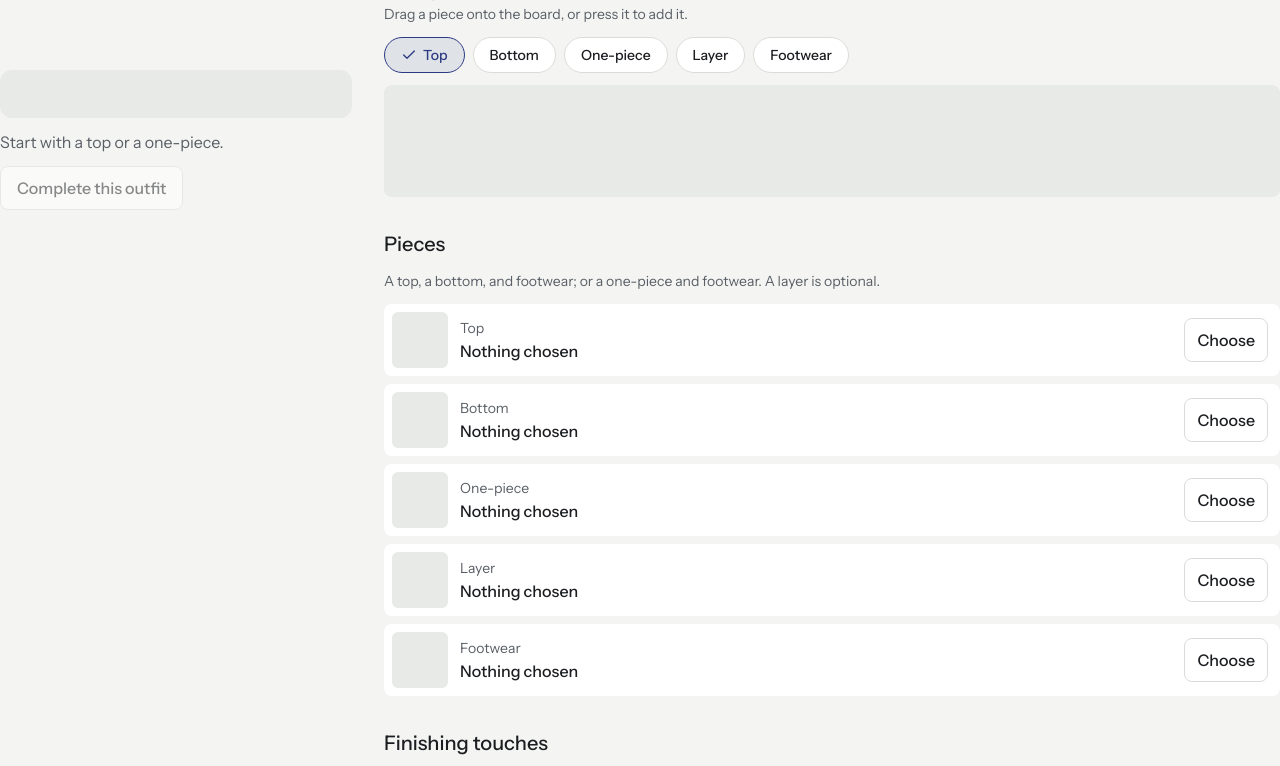
offers finishing touches the outfit can take
Click the 1st button "Choose".
click(1226, 340)  # box [1184, 318, 1268, 362]
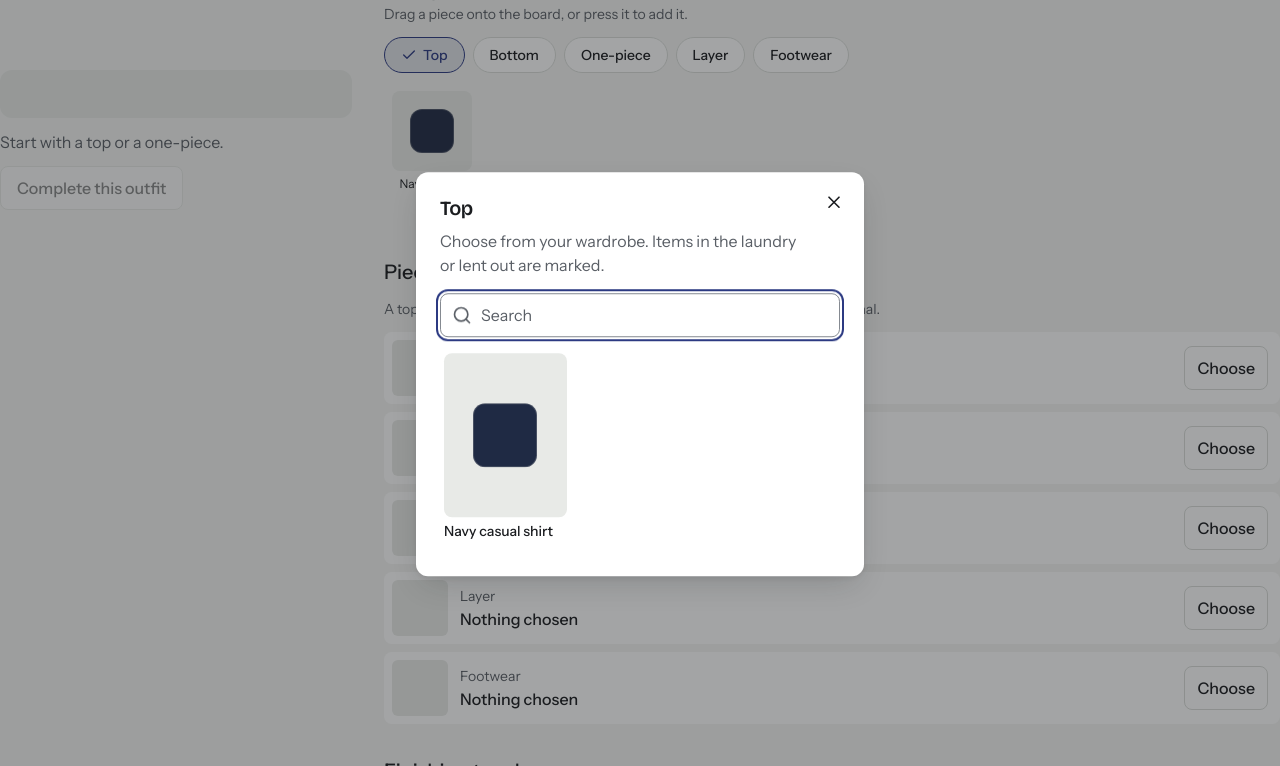
Click the button "Navy casual shirt".
click(505, 447)  # box [444, 353, 567, 542]
(page scrolled)
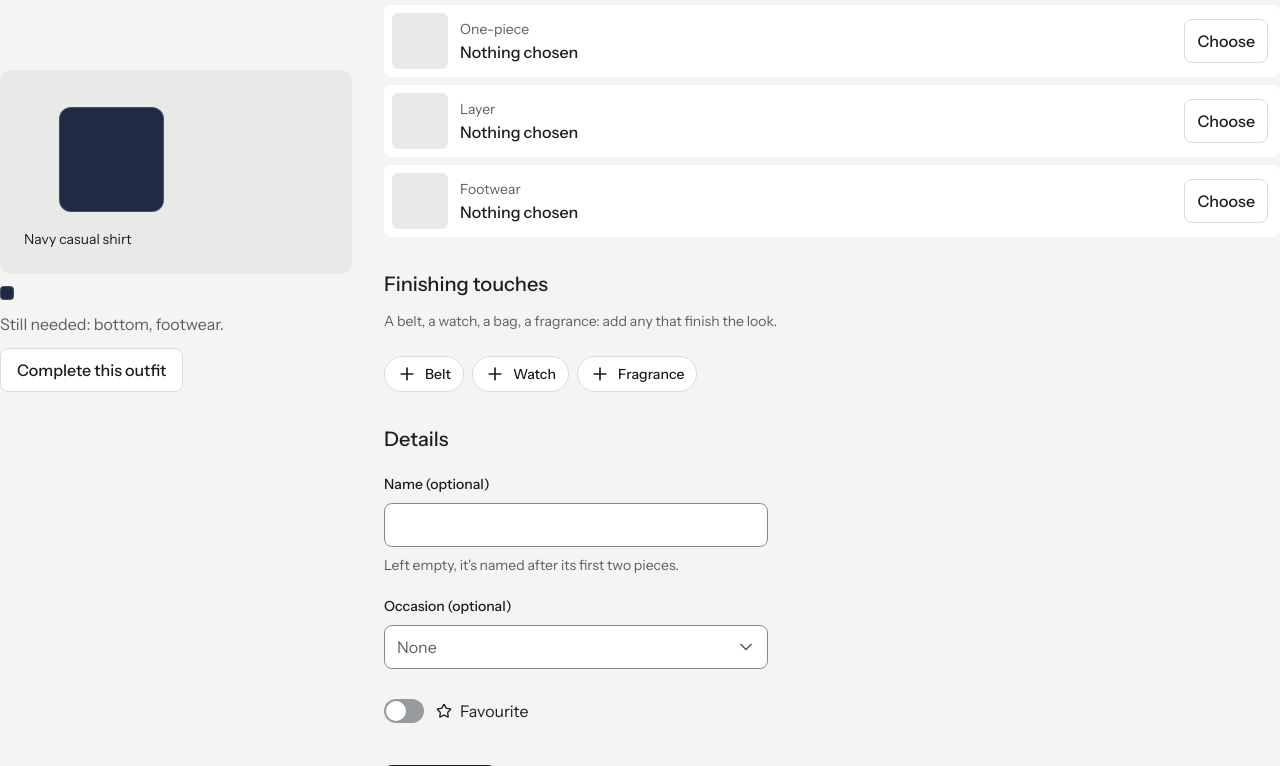
Now the button "Fragrance" is shown, box [577, 356, 698, 392]
Now the dialog is gone
Click the button "Watch".
click(520, 374)  # box [472, 356, 569, 392]
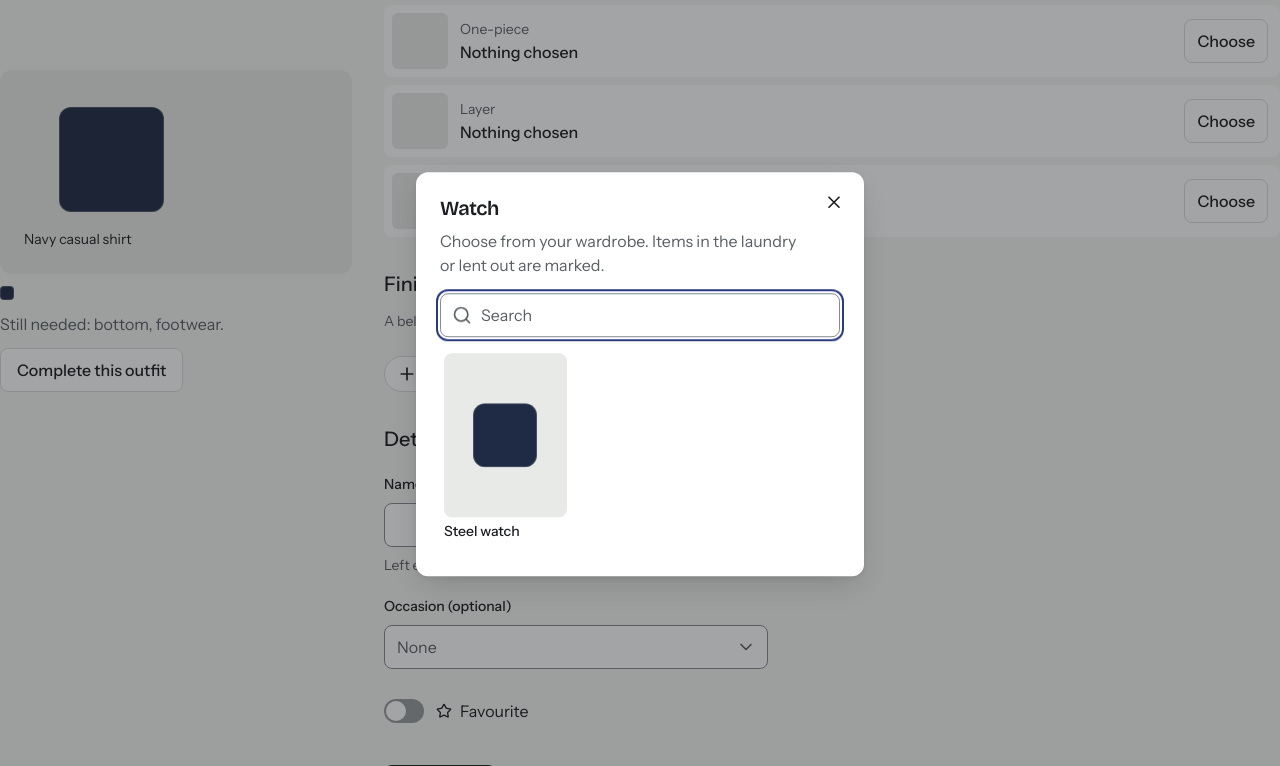
Click the button "Steel watch".
click(505, 447)  # box [444, 353, 567, 542]
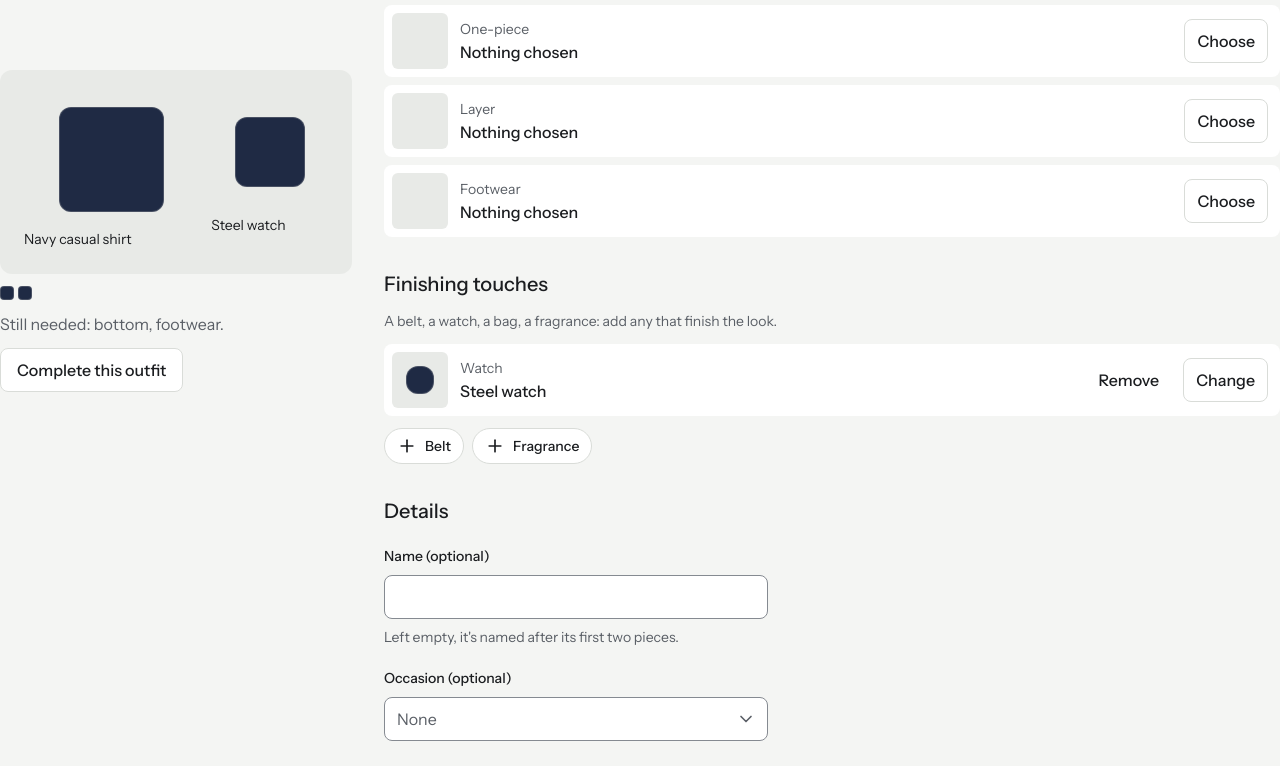
Now the button with aria-label "Change watch" is shown, box [1183, 358, 1268, 402]
